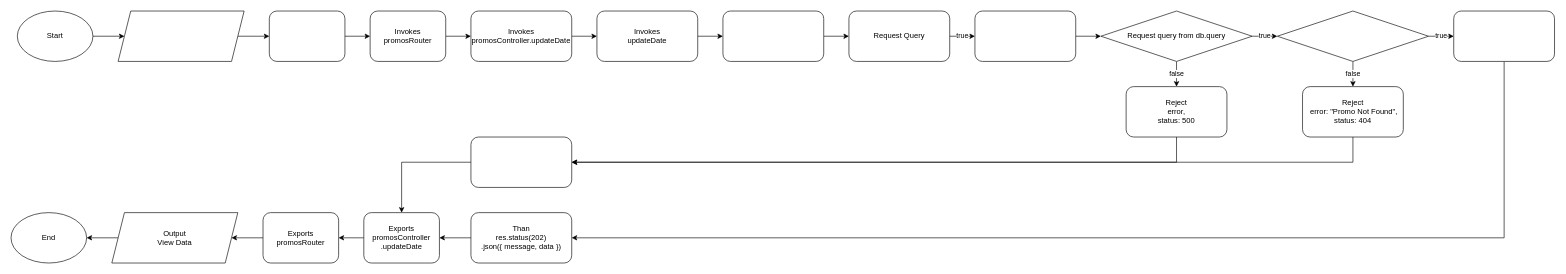
Image size: 1566x274. Some labels were removed from this diagram. Here are the shapes that lost their labels. From the top down, the centre of each, then its label:
point (180, 35): Input http://localhost:8080/products
point (307, 35): invokes mainRouter
point (773, 35): Invokes updateDateEnd
point (1025, 35): Generate SQL
point (1353, 35): Resolve result.rows.length === 0
point (1504, 35): Resolve message: "Date updated!", data: rows
point (521, 161): Catch res.status(status) .json({ error, data: [] })
